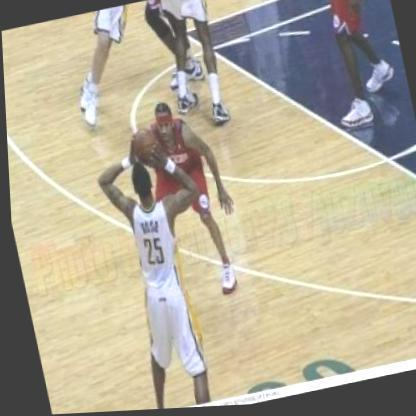basketball: (126, 127, 157, 164)
